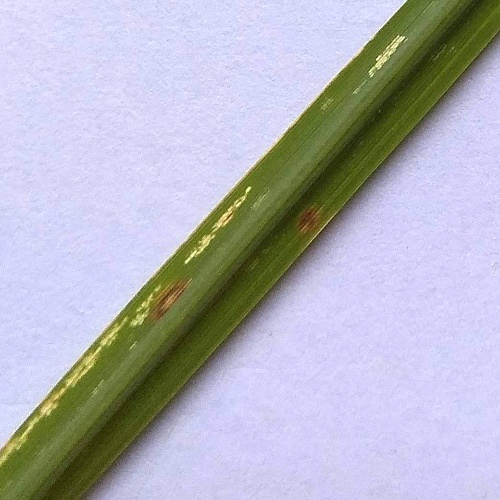Busuk Leher: (172, 202, 252, 261), (142, 274, 196, 321), (367, 33, 411, 75), (290, 200, 327, 237), (41, 380, 74, 417)
